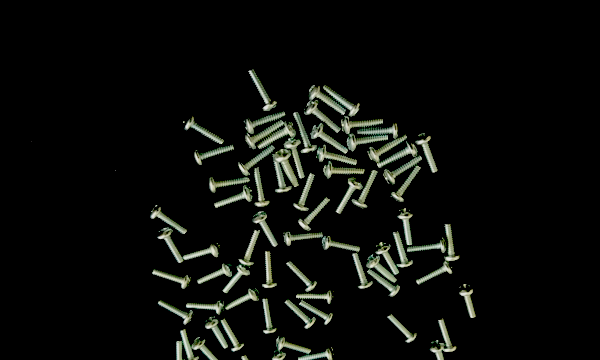shortscrew: (323, 83, 363, 118), (248, 68, 279, 113), (308, 82, 348, 116), (183, 114, 225, 145), (389, 165, 422, 204), (297, 196, 332, 232), (304, 100, 341, 134), (310, 123, 349, 155), (376, 139, 419, 168), (243, 120, 284, 150), (367, 134, 409, 163), (150, 203, 188, 235), (383, 155, 423, 185), (238, 145, 276, 176), (334, 176, 363, 216), (285, 259, 319, 293), (256, 121, 297, 149), (243, 109, 286, 135), (352, 169, 379, 210), (385, 311, 418, 344), (193, 142, 236, 167), (293, 112, 318, 155), (414, 131, 439, 174), (291, 172, 317, 213), (251, 210, 279, 248), (156, 299, 195, 326), (416, 259, 455, 286), (156, 227, 184, 264), (213, 185, 254, 210), (284, 299, 316, 331), (367, 269, 402, 298), (274, 148, 299, 188), (316, 143, 358, 166), (366, 253, 398, 283), (299, 300, 335, 326), (238, 228, 262, 267), (224, 287, 261, 312), (374, 241, 401, 275), (204, 315, 230, 350), (272, 153, 293, 196), (223, 263, 252, 294), (152, 268, 192, 290), (341, 115, 385, 135), (391, 230, 414, 268), (197, 262, 233, 286), (357, 120, 400, 140), (184, 241, 223, 263), (347, 133, 392, 152), (351, 252, 373, 290), (406, 236, 450, 255), (323, 161, 365, 180), (221, 319, 244, 353), (322, 233, 361, 253), (253, 167, 272, 208), (283, 228, 323, 247), (276, 334, 312, 355), (208, 176, 250, 194), (437, 316, 457, 353), (192, 336, 222, 360), (458, 283, 478, 319), (297, 287, 335, 305), (261, 250, 279, 288), (396, 208, 414, 246), (186, 299, 226, 316), (443, 222, 460, 262), (180, 328, 200, 360), (262, 297, 277, 335), (298, 345, 335, 360), (428, 340, 449, 360), (172, 342, 188, 360), (271, 350, 291, 360), (241, 355, 265, 360), (323, 358, 355, 360)
